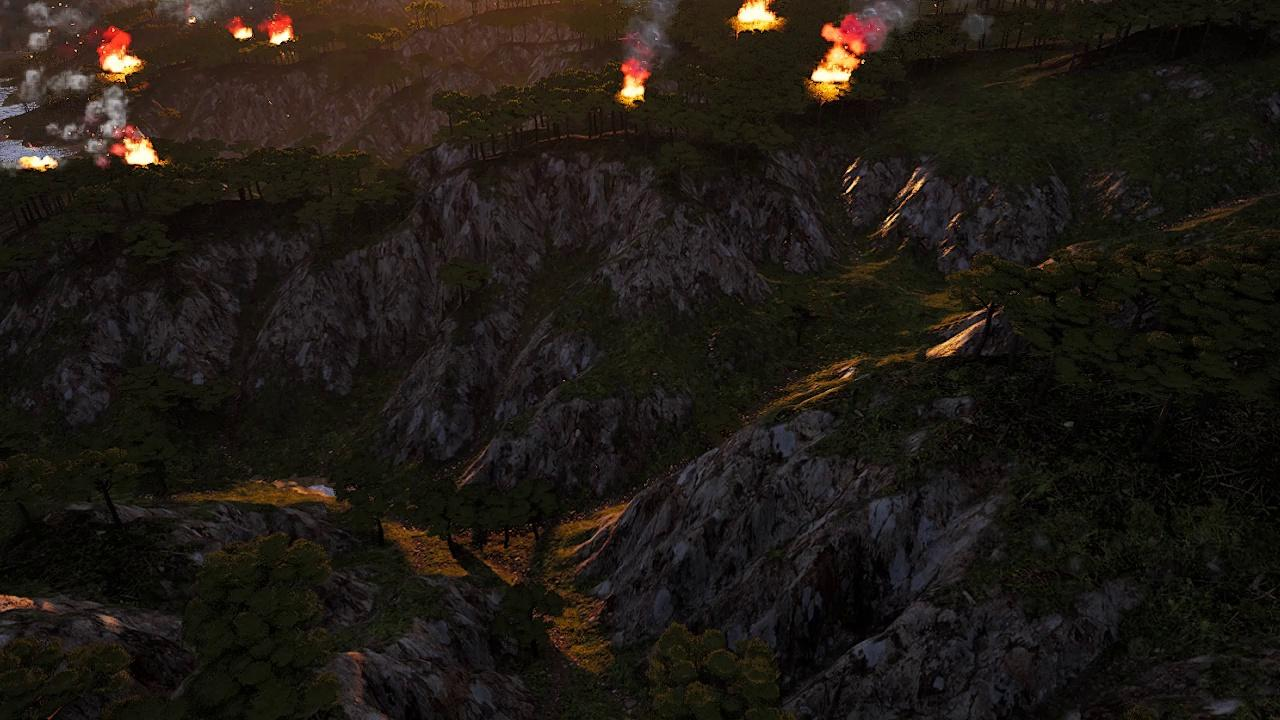fire: (809, 14, 874, 97), (230, 12, 297, 45), (113, 132, 159, 167), (617, 62, 652, 106), (731, 0, 779, 30), (95, 51, 138, 75), (6, 158, 59, 172)
smoke: (14, 0, 130, 158), (821, 1, 908, 59), (630, 0, 686, 65)
